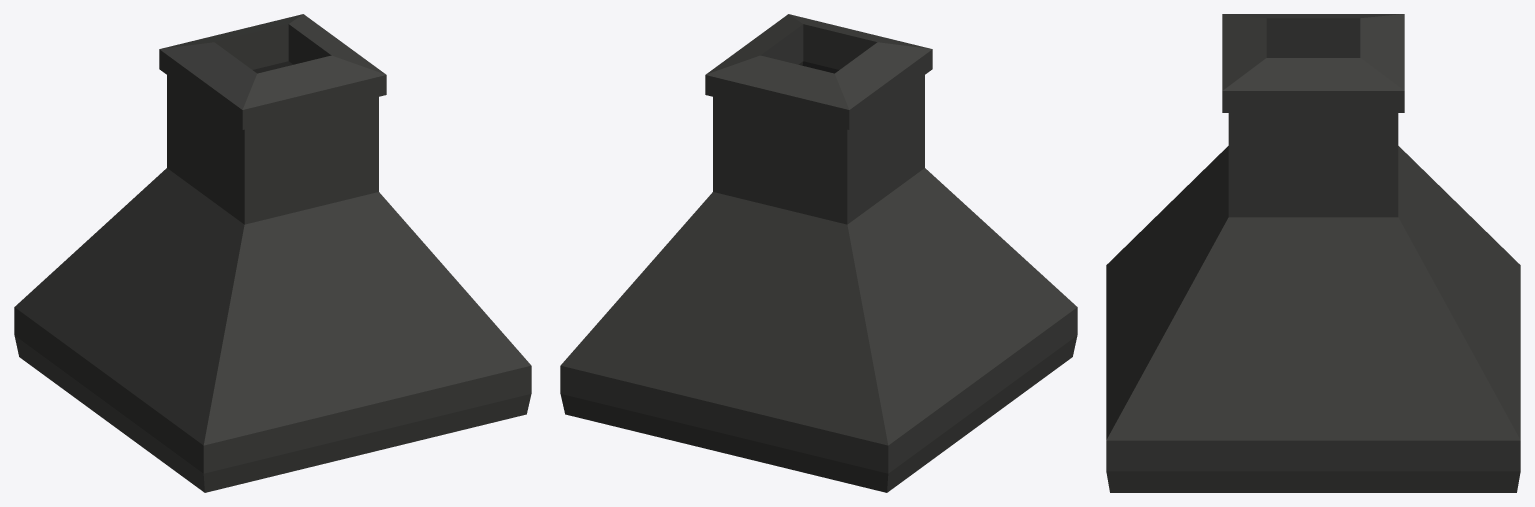
Rendered from davlumbaz (1).fbx.
The picture shows the model from 3 angles, left to right: view 1: azimuth 30°, elevation 25°; view 2: azimuth 150°, elevation 25°; view 3: azimuth 270°, elevation 25°; orthographic projection. The views are drawn at different scales.
Parts seen in each view (by area): view 1: Cube.017; view 2: Cube.017; view 3: Cube.017.
Boxes of the visible parts, box(x1,y1,x2,y2) form: Cube.017: box(14, 14, 531, 492); Cube.017: box(560, 14, 1077, 492); Cube.017: box(1106, 14, 1520, 492).
Bounding box in the file's own units: 150 × 147 × 150.
Materials: 1 (1 with a texture image).
